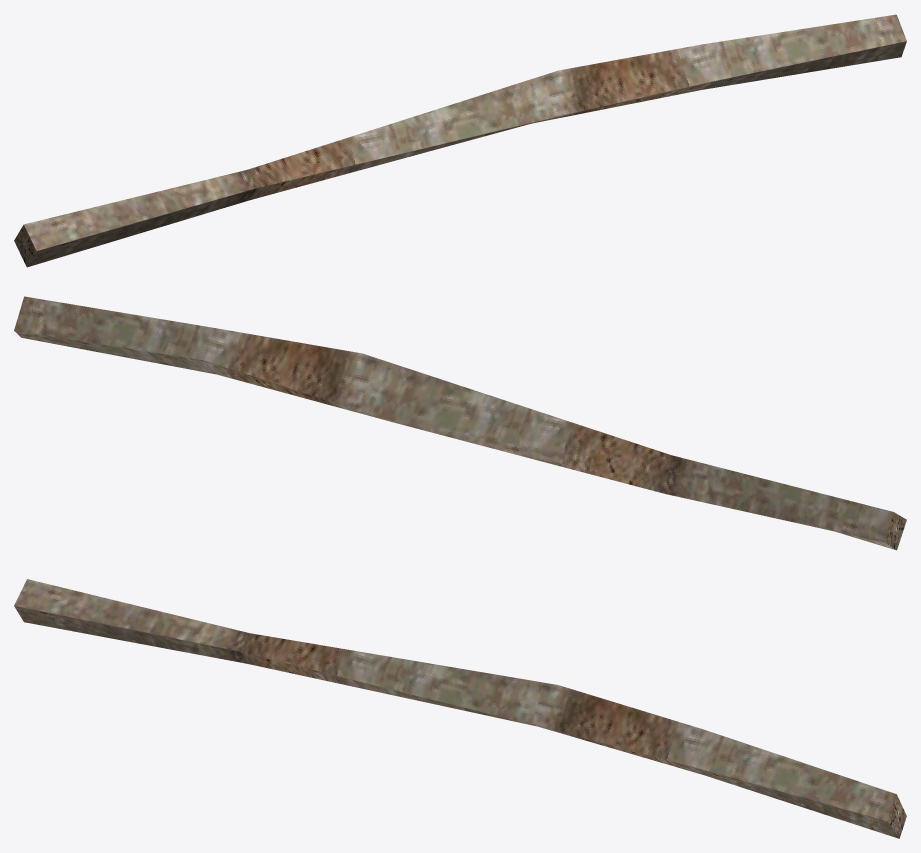
File: lf_wooden_fence_beam_c.glb
3 renders of one model, top to bottom at view 1: azimuth 30°, elevation 25°; view 2: azimuth 150°, elevation 25°; view 3: azimuth 330°, elevation 25°, orthographic.
Visible parts, largest first — view 1: wooden_fence_beam_alt_2; view 2: wooden_fence_beam_alt_2; view 3: wooden_fence_beam_alt_2.
Boxes of the visible parts, x1,y1,x2,y2 form: wooden_fence_beam_alt_2: (14, 14, 906, 267); wooden_fence_beam_alt_2: (14, 296, 906, 550); wooden_fence_beam_alt_2: (14, 579, 906, 838).
Bounding box in the file's own units: 2.02 × 0.152 × 0.1313.
1 material, 1 textured.
